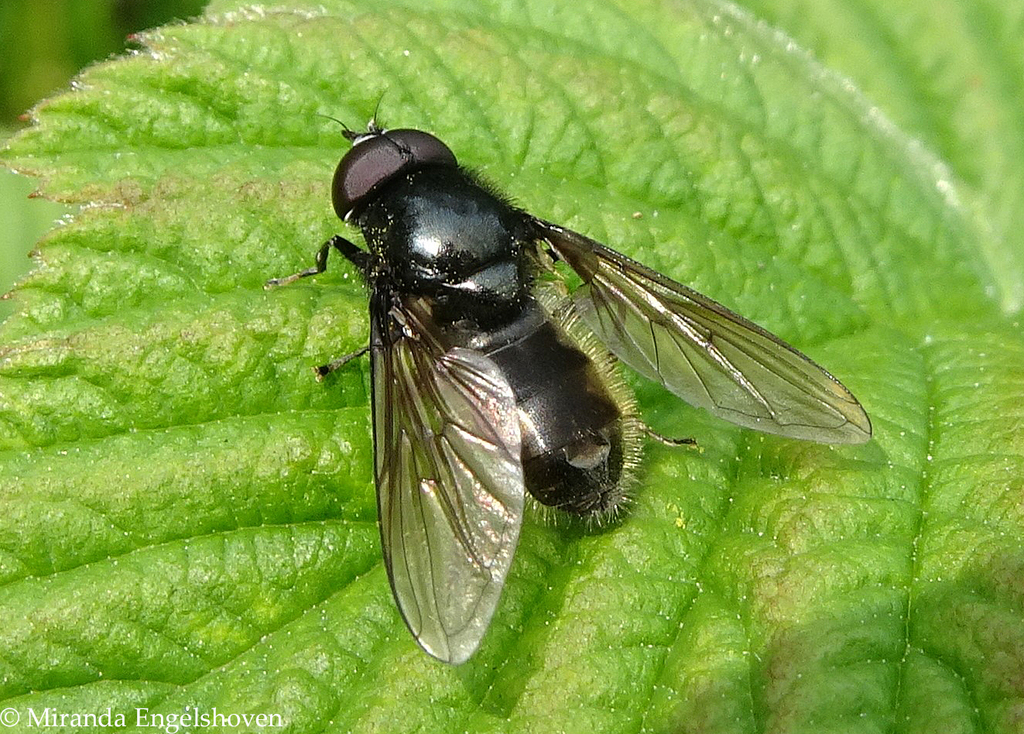not_bumblebee: (264, 88, 873, 666)
